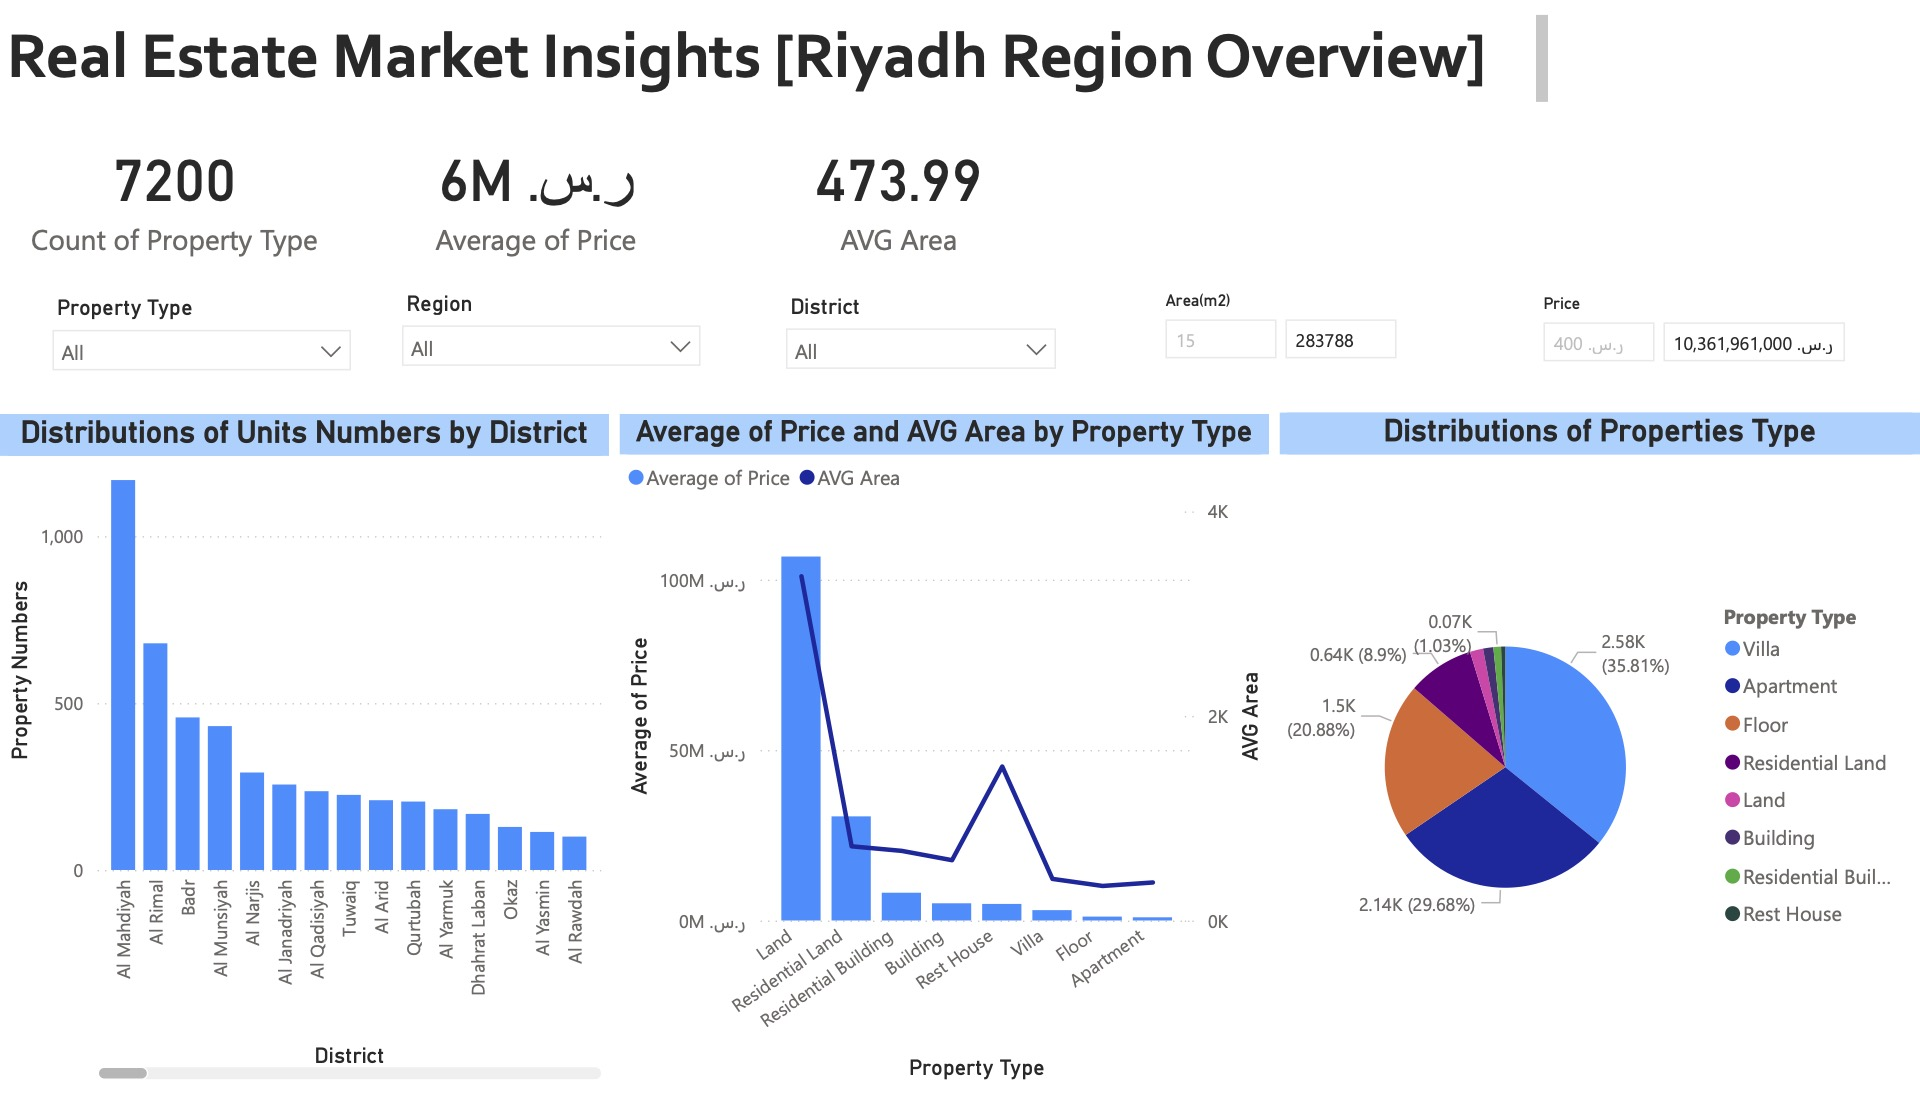

What the dashboard file says about the page in this screenshot:
{"tool":"powerbi","page":{"name":"Page 1","canvas":[1280,720],"ordinal":0},"visuals":[{"type":"clusteredColumnChart","title":"Distributions of Units Numbers by District","fields":{"Category":["bayut_properties.District"],"Y":["CountNonNull(bayut_properties.Property Type)"]},"box":[0,271.4,405.7,448.6],"z":0},{"type":"pieChart","title":"Distributions of Properties Type","fields":{"Y":["CountNonNull(bayut_properties.Property Type)"],"Category":["bayut_properties.Property Type"]},"box":[852.9,270,427.1,450],"z":1000},{"type":"slicer","fields":{"Values":["bayut_properties.District"]},"box":[513.6,185.7,200,58.6],"z":2000},{"type":"lineStackedColumnComboChart","fields":{"Category":["bayut_properties.Property Type"],"Y":["Avg(bayut_properties.Price)"],"Y2":["Avg(bayut_properties.Area( Meter Sq))"]},"box":[412.9,271.4,432.9,448.6],"z":2000},{"type":"textbox","box":[0,0,1037.1,72.9],"z":3000},{"type":"slicer","fields":{"Values":["bayut_properties.Property Type"]},"box":[25,187.1,218.6,67.1],"z":3000},{"type":"group","id":"g1","title":"Group 1","box":[14.7,72.9,685.7,101.4],"z":4000},{"type":"slicer","fields":{"Values":["bayut_properties.Area( Meter Sq)"]},"box":[763.6,184.3,234.3,72.9],"z":4000},{"type":"card","fields":{"Values":["CountNonNull(bayut_properties.Property Type)"]},"box":[14.7,72.9,202.9,101.4],"z":5000,"group":"g1"},{"type":"slicer","fields":{"Values":["bayut_properties.Price"]},"box":[1016.4,185.7,238.6,72.9],"z":7000},{"type":"card","fields":{"Values":["Avg(bayut_properties.Area( Meter Sq))"]},"box":[497.6,72.9,202.9,101.4],"z":9000,"group":"g1"},{"type":"card","fields":{"Values":["Avg(bayut_properties.Price)"]},"box":[256.1,72.9,202.9,101.4],"z":10000,"group":"g1"},{"type":"slicer","fields":{"Values":["bayut_properties.Region"]},"box":[257.9,184.3,218.6,67.1],"z":10002}]}

Visuals, with their boxes in screenshot pixels (x1, y1, x2, y2), scaled from the page's 1280x720 canvas onto the 1920x1095 screenshot:
"Distributions of Units Numbers by District" clusteredColumnChart: (left=0, top=413, right=609, bottom=1094)
"Distributions of Properties Type" pieChart: (left=1279, top=411, right=1919, bottom=1094)
slicer - bayut_properties.District: (left=770, top=282, right=1070, bottom=372)
lineStackedColumnComboChart - bayut_properties.Property Type x Avg(bayut_properties.Price): (left=619, top=413, right=1269, bottom=1094)
textbox: (left=0, top=0, right=1556, bottom=111)
slicer - bayut_properties.Property Type: (left=38, top=285, right=365, bottom=387)
"Group 1" group: (left=22, top=111, right=1051, bottom=265)
slicer - bayut_properties.Area( Meter Sq): (left=1145, top=280, right=1497, bottom=391)
card - CountNonNull(bayut_properties.Property Type): (left=22, top=111, right=326, bottom=265)
slicer - bayut_properties.Price: (left=1525, top=282, right=1882, bottom=393)
card - Avg(bayut_properties.Area( Meter Sq)): (left=746, top=111, right=1051, bottom=265)
card - Avg(bayut_properties.Price): (left=384, top=111, right=688, bottom=265)
slicer - bayut_properties.Region: (left=387, top=280, right=715, bottom=382)
